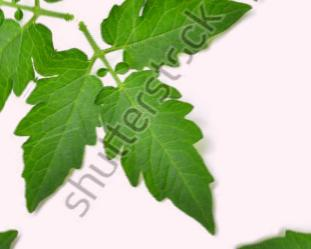Tomato leaf: (51, 36, 285, 249), (0, 32, 151, 236), (70, 0, 266, 115)
